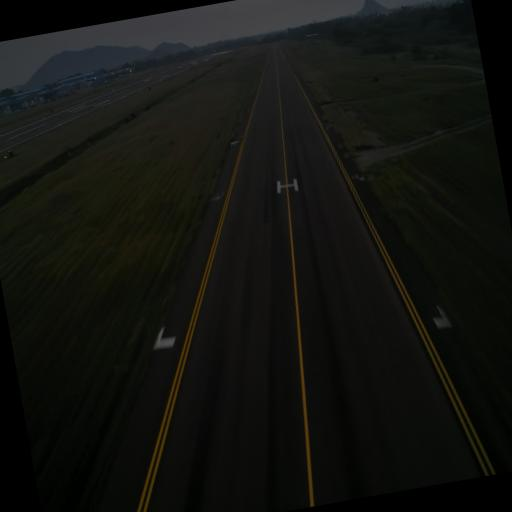on: (214, 190, 222, 200), (359, 171, 364, 180)
